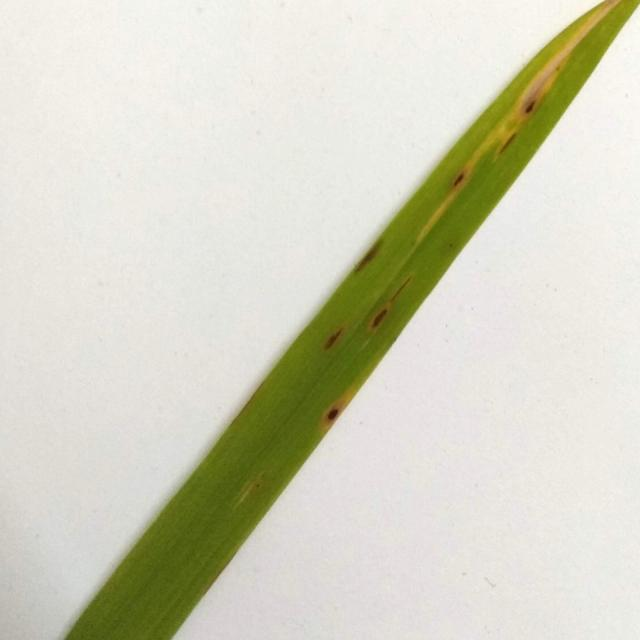Brown spot: (495, 62, 544, 174), (366, 284, 414, 334), (314, 316, 354, 360), (354, 232, 388, 274), (440, 173, 474, 194), (317, 401, 339, 424)
